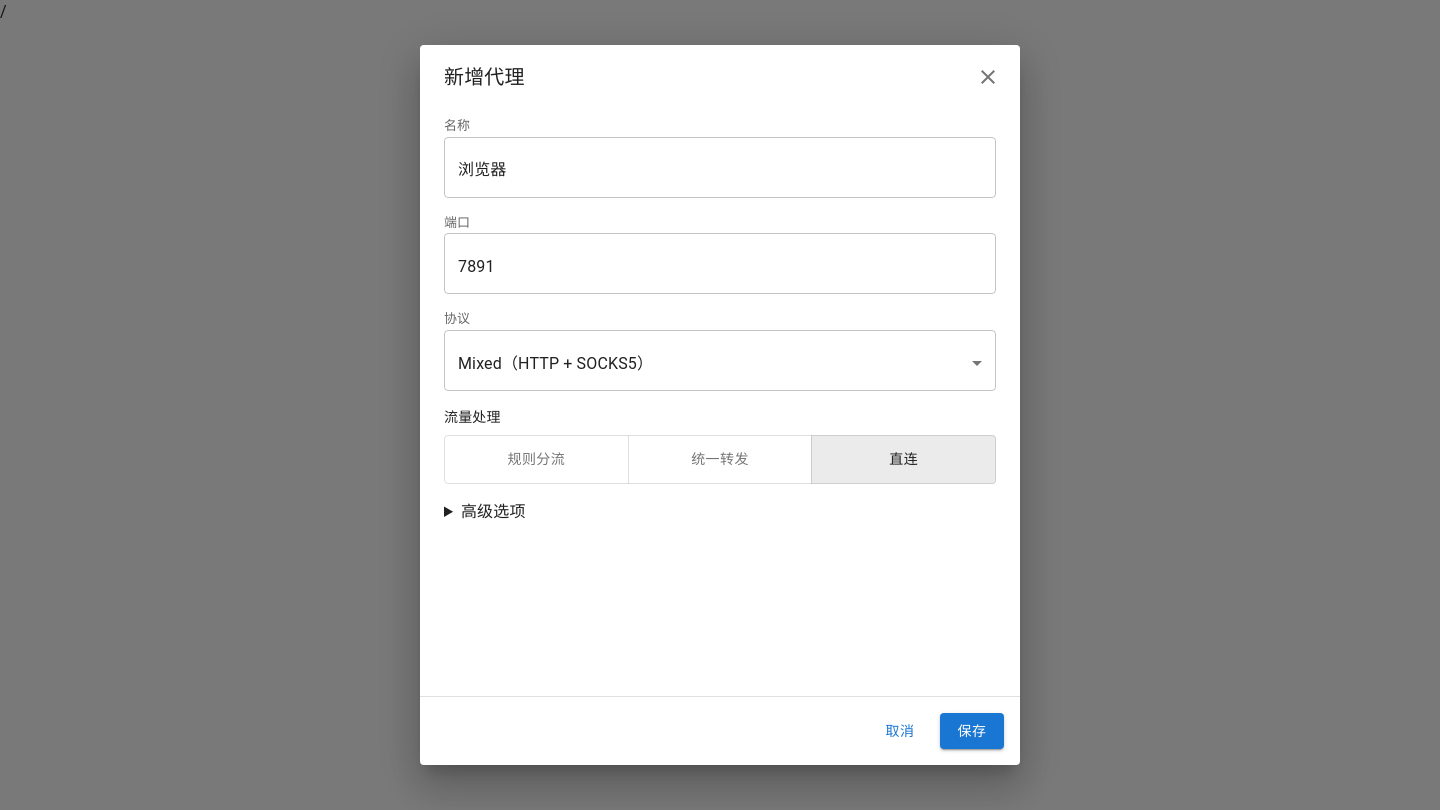
it: ListenerDialog V4.3 › requires a real node before uniform forwarding can save
This screenshot has width=1440, height=810.
Click the button "统一转发" at (720, 459), box x1=628 y1=435 x2=812 y2=484
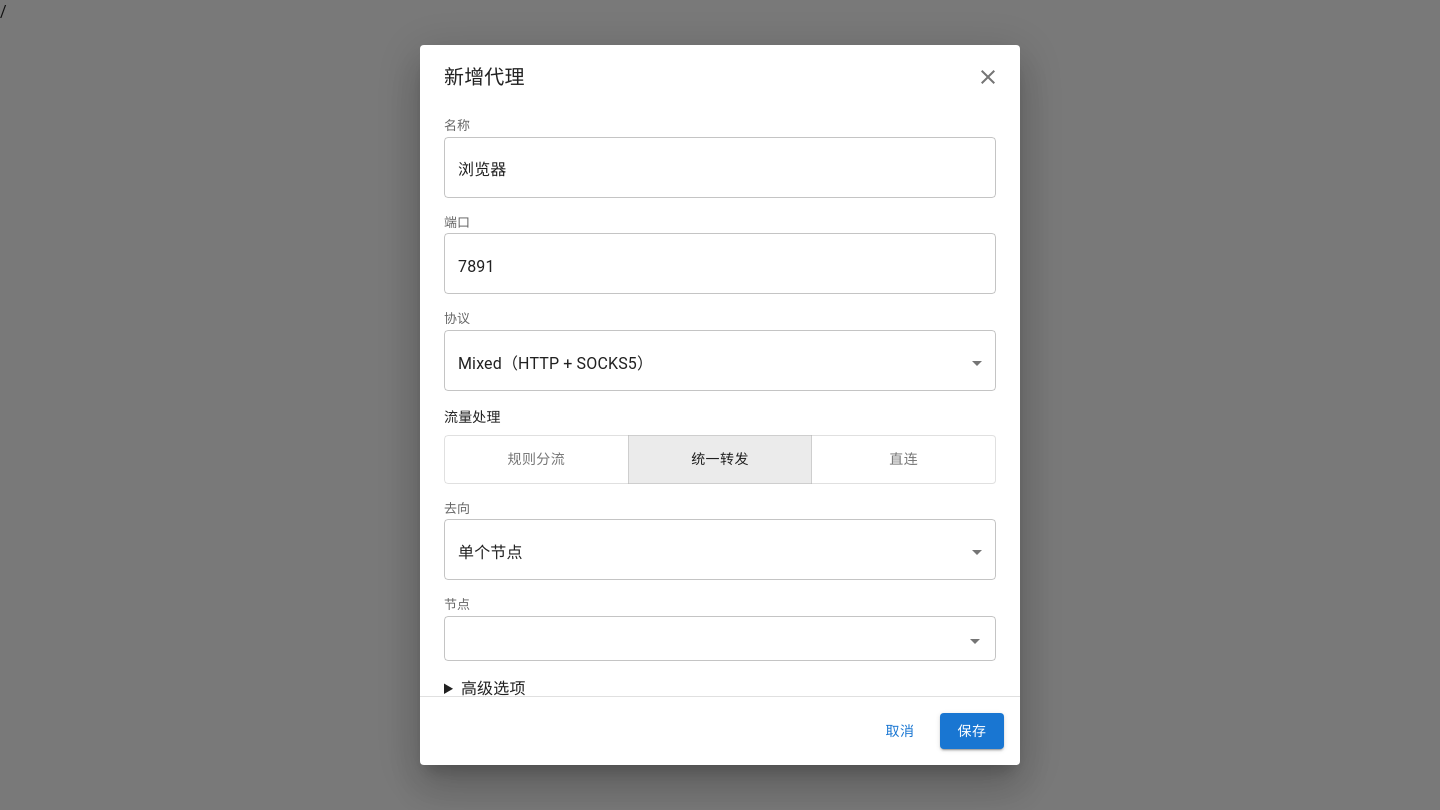
Click the button "保存" at (972, 731), box x1=940 y1=712 x2=1004 y2=749
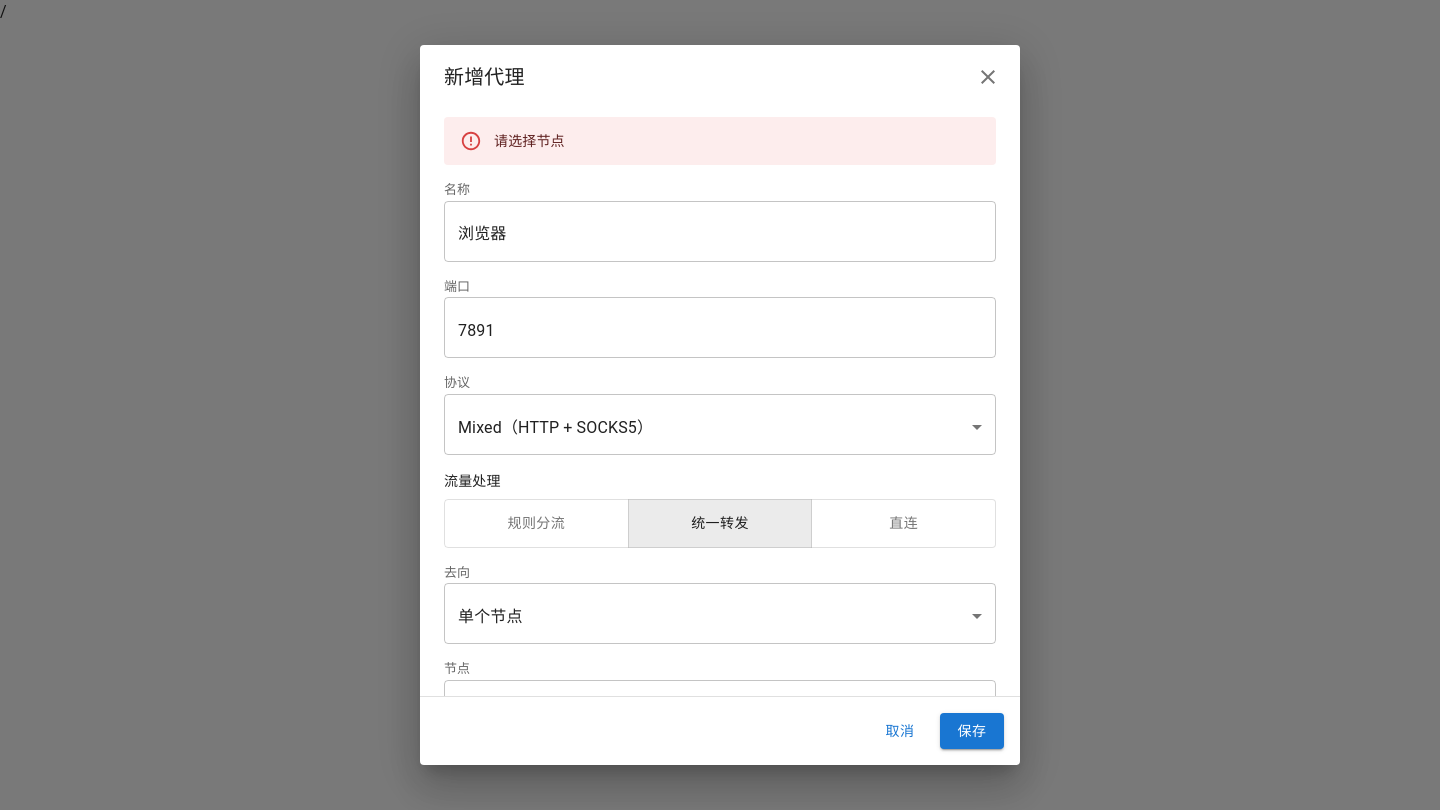
Now the text "请选择节点" is shown, box x1=494 y1=133 x2=565 y2=149
